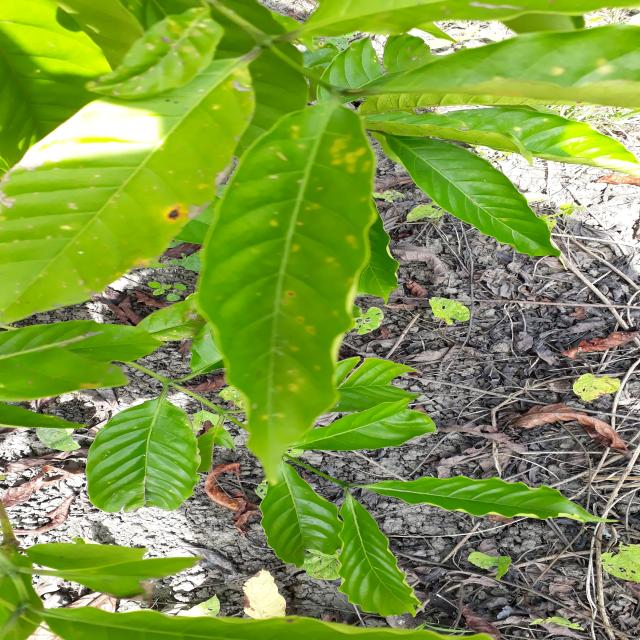Enfermedad-Roya: (207, 100, 389, 482)
